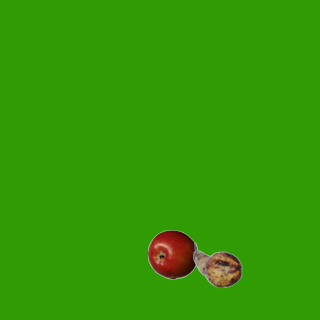Apple Braeburn: (147, 229, 197, 279)
Pear Abate: (192, 240, 242, 290)
